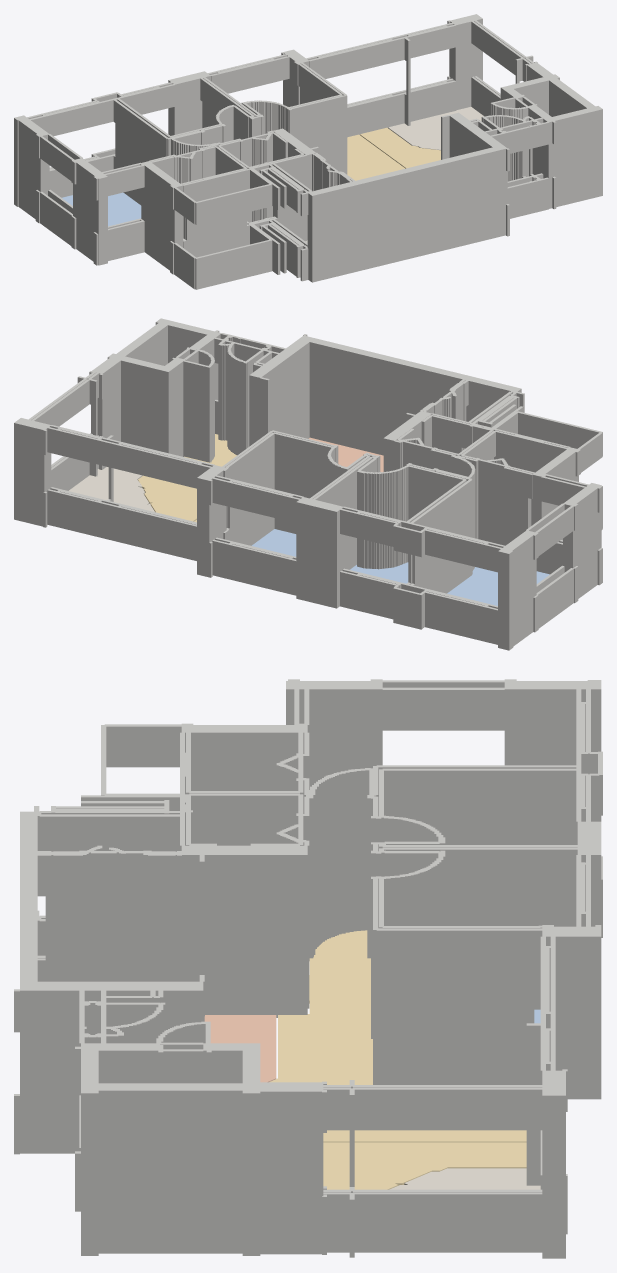
3 views of the same model, one above another, from view 1: azimuth 30°, elevation 25°; view 2: azimuth 150°, elevation 25°; view 3: azimuth 270°, elevation 25° (orthographic). The views are drawn at different scales.
Visible parts, largest first — view 1: walls, room:living:8, room:living:9, room:other:13, room:bedroom:12; view 2: walls, room:living:9, room:other:13, room:bedroom:12, room:bedroom:10, room:bedroom:11, room:kitchen:0; view 3: walls, room:living:8, room:living:9, room:kitchen:0, room:other:13.
Boxes of the visible parts, bbox=[...] form: walls: bbox=[14, 14, 602, 289]; room:living:8: bbox=[347, 134, 404, 180]; room:living:9: bbox=[360, 127, 440, 168]; room:other:13: bbox=[388, 107, 483, 150]; room:bedroom:12: bbox=[62, 192, 141, 226]; walls: bbox=[14, 318, 602, 650]; room:living:9: bbox=[138, 434, 236, 521]; room:other:13: bbox=[69, 467, 154, 511]; room:bedroom:12: bbox=[447, 567, 549, 605]; room:bedroom:10: bbox=[251, 529, 296, 556]; room:bedroom:11: bbox=[350, 562, 408, 583]; room:kitchen:0: bbox=[308, 437, 383, 472]; walls: bbox=[14, 679, 602, 1258]; room:living:8: bbox=[269, 930, 526, 1142]; room:living:9: bbox=[323, 1142, 526, 1189]; room:kitchen:0: bbox=[204, 1015, 276, 1082]; room:other:13: bbox=[389, 1168, 540, 1189].
Size of the model in its own units: 15.35 by 2.8 by 9.18.
